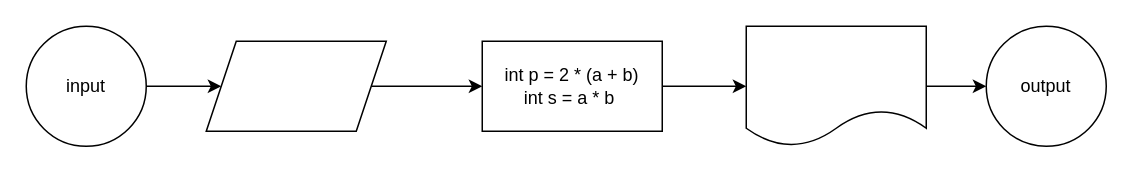
The diagram is 1133 pixels wide and 173 high, and some of its shapes have lost their labels. Here are the shapes that lost their labels. From the top down, the box of each, then its label:
(205, 40, 386, 131): int a int b
(745, 25, 926, 146): sahesi : a perimetr : p
